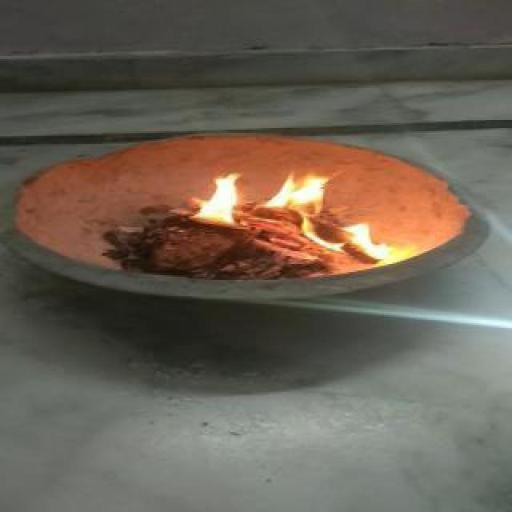smoke: (196, 162, 410, 267)
